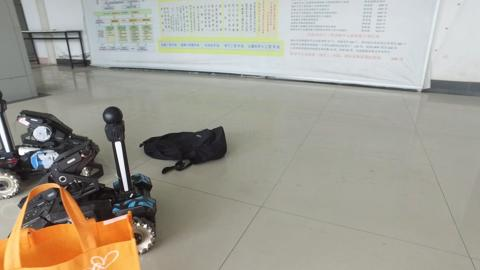chariot: (2, 88, 77, 201)
